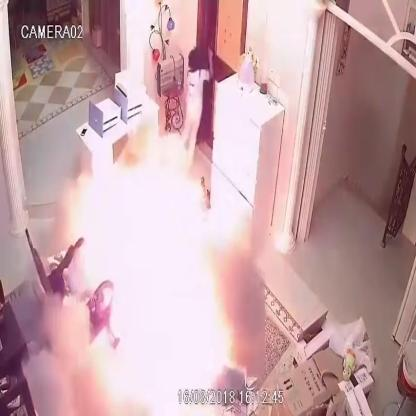fire: (71, 134, 232, 416)
